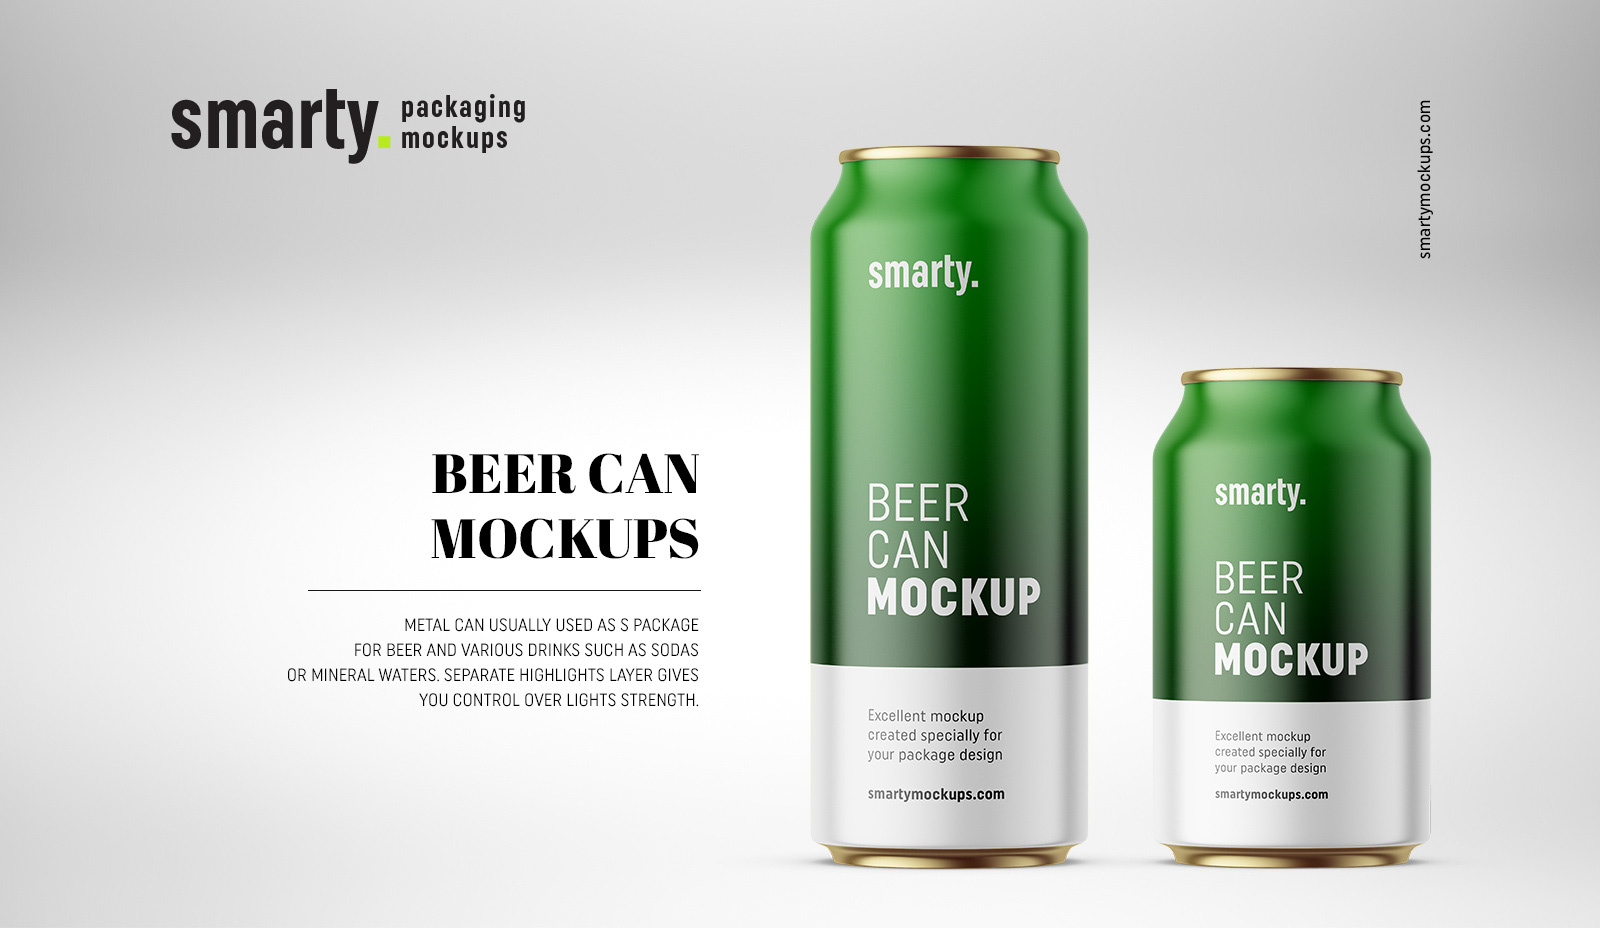beer can: (809, 137, 1085, 857), (1147, 357, 1435, 871)
